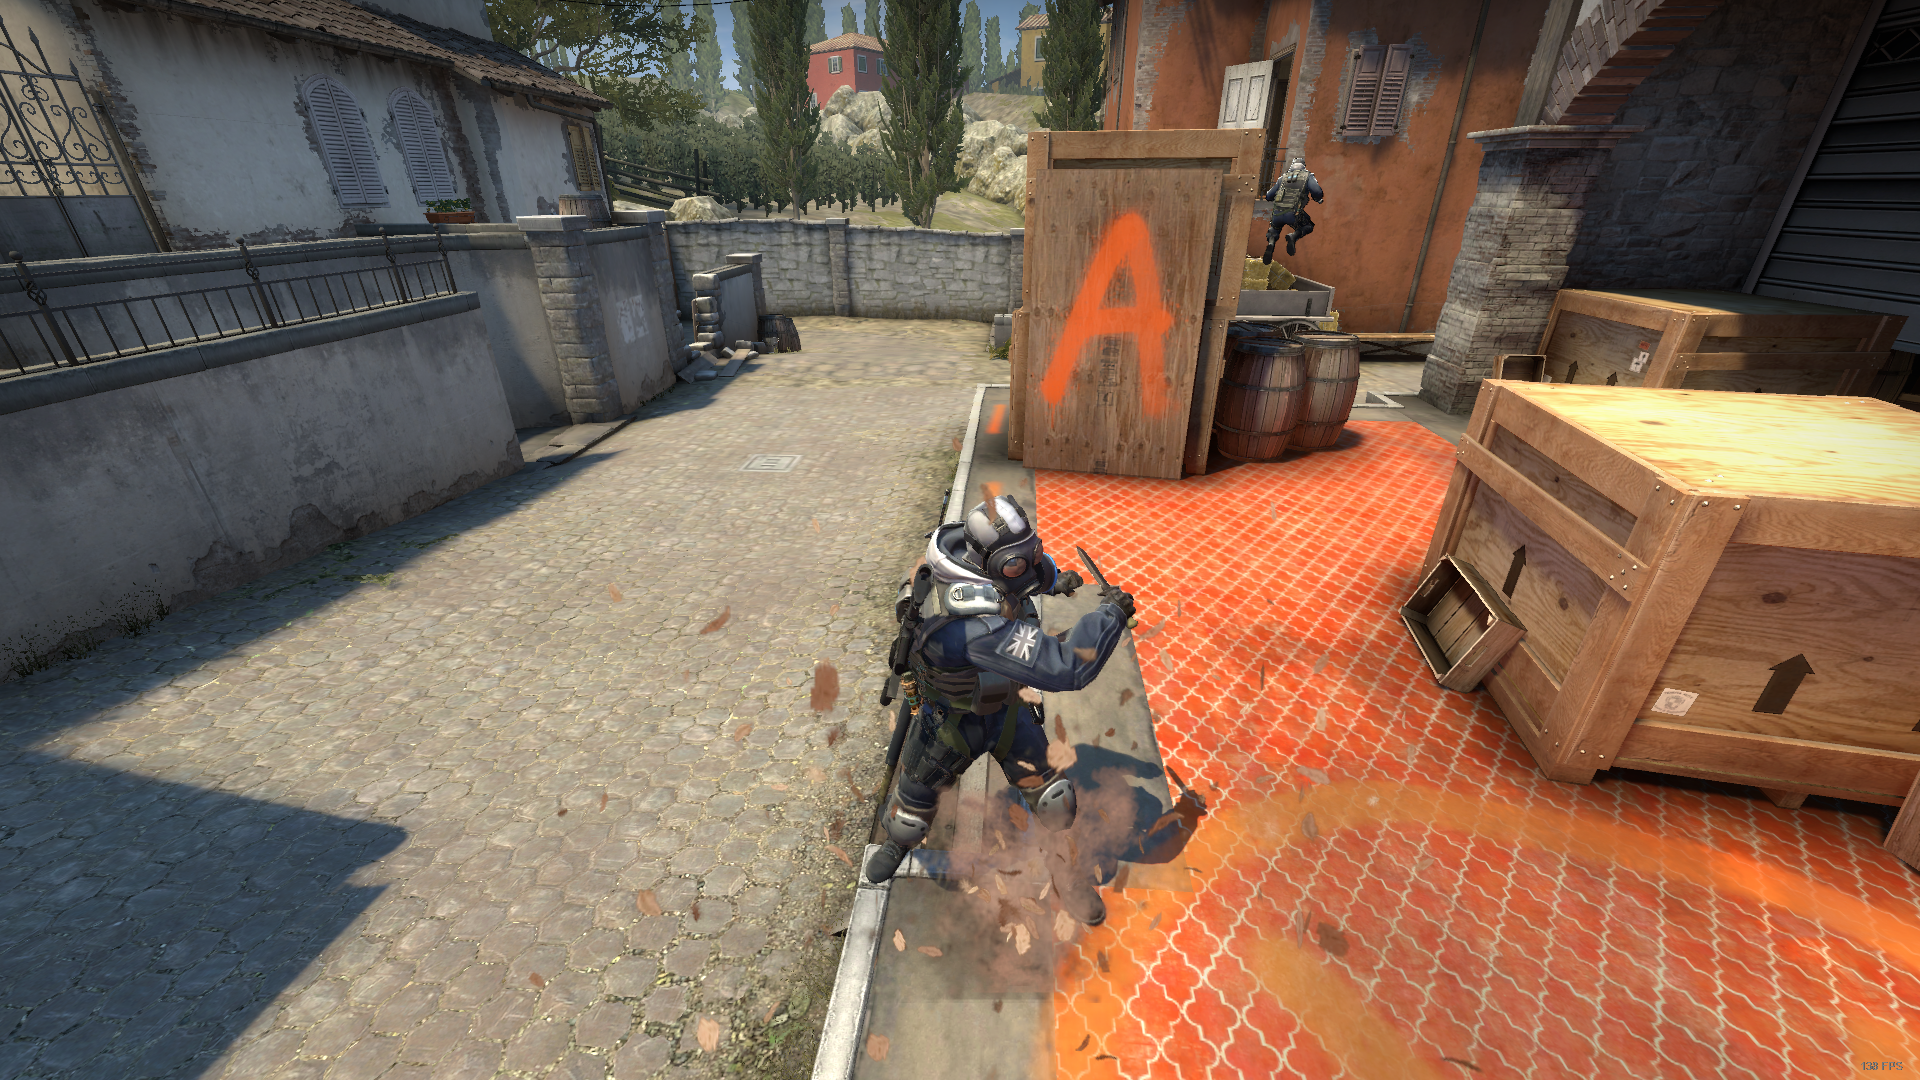ct: (873, 498, 1134, 940), (1266, 158, 1324, 266)
